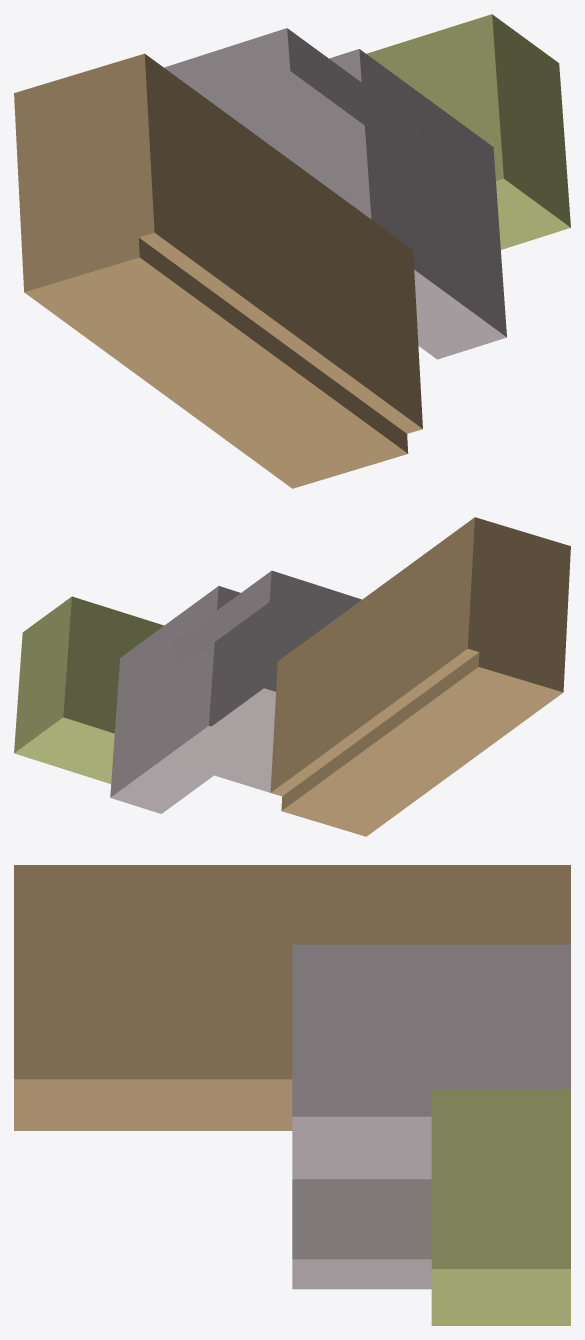
3 views of the same model, one above another, from view 1: azimuth 30°, elevation 25°; view 2: azimuth 150°, elevation 25°; view 3: azimuth 270°, elevation 25° (orthographic). The views are drawn at different scales.
Visible parts, largest first — view 1: 0_3_0_1_2_2_2_3_0_2; view 2: 0_3_0_1_2_2_2_3_0_2; view 3: 0_3_0_1_2_2_2_3_0_2.
Boxes of the visible parts, x1=… form: 0_3_0_1_2_2_2_3_0_2: x1=14, y1=14, x2=570, y2=488; 0_3_0_1_2_2_2_3_0_2: x1=14, y1=517, x2=570, y2=836; 0_3_0_1_2_2_2_3_0_2: x1=14, y1=865, x2=570, y2=1325.
Size of the model in its own units: 25.29 by 12.16 by 24.
